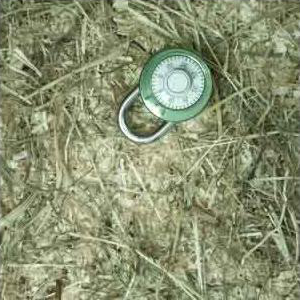lock: (118, 46, 216, 145)
